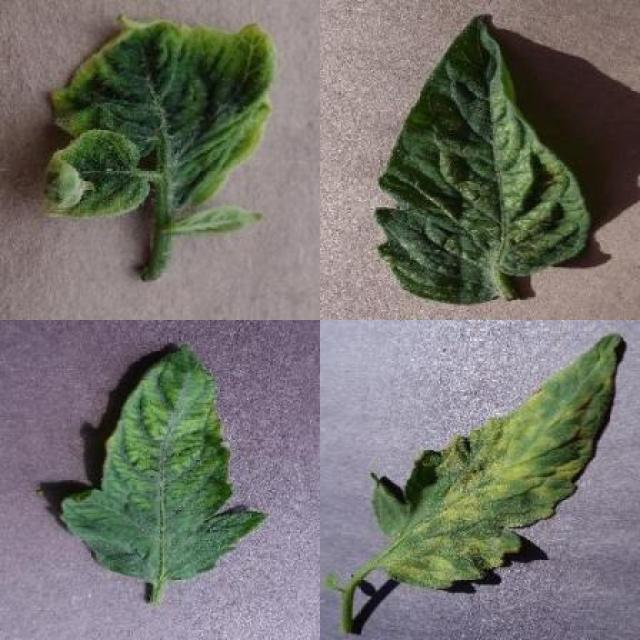Leaf Mold: (373, 334, 620, 592)
Mosaic Virus: (59, 342, 267, 582)
Spider Mites: (376, 13, 590, 304)
Yellow Leaf Curl Virus: (44, 14, 276, 219)
